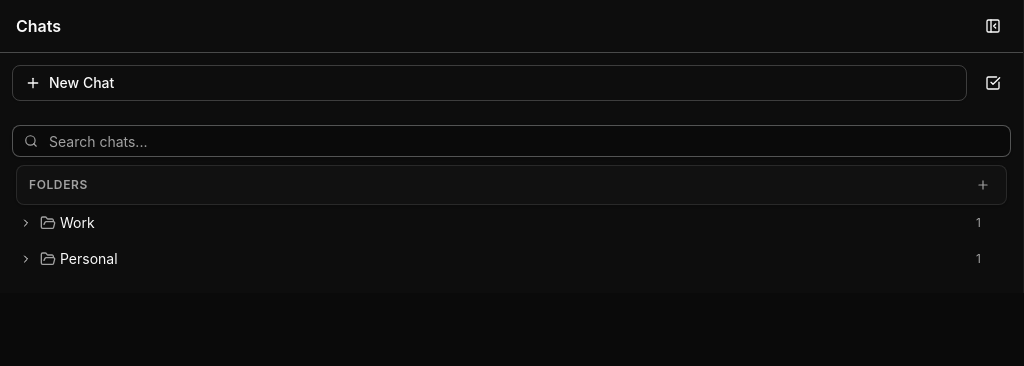
Test: SessionList › Multiple Folders › should handle multiple folders with sessions
Expected: the text "Work" is shown, [60,214,95,231]
Expected: the text "Personal" is shown, [60,250,118,267]
Click the 1st button named "Expand folder" at (26, 223), box [16,213,36,233]
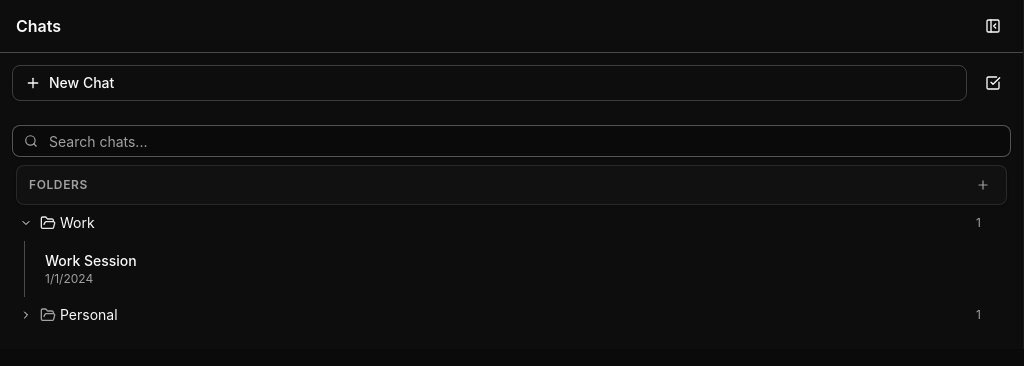
Now the text "Work Session" is shown, box [45,252,137,269]
